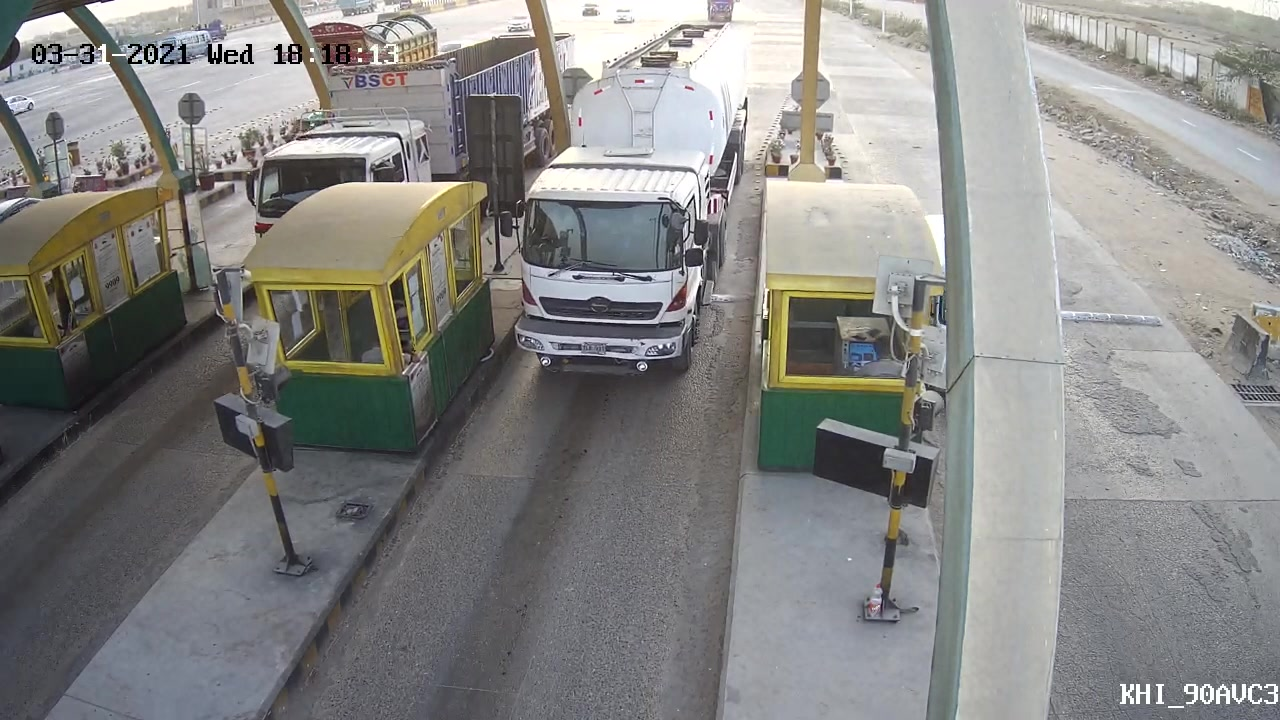F6: (500, 8, 766, 380)
